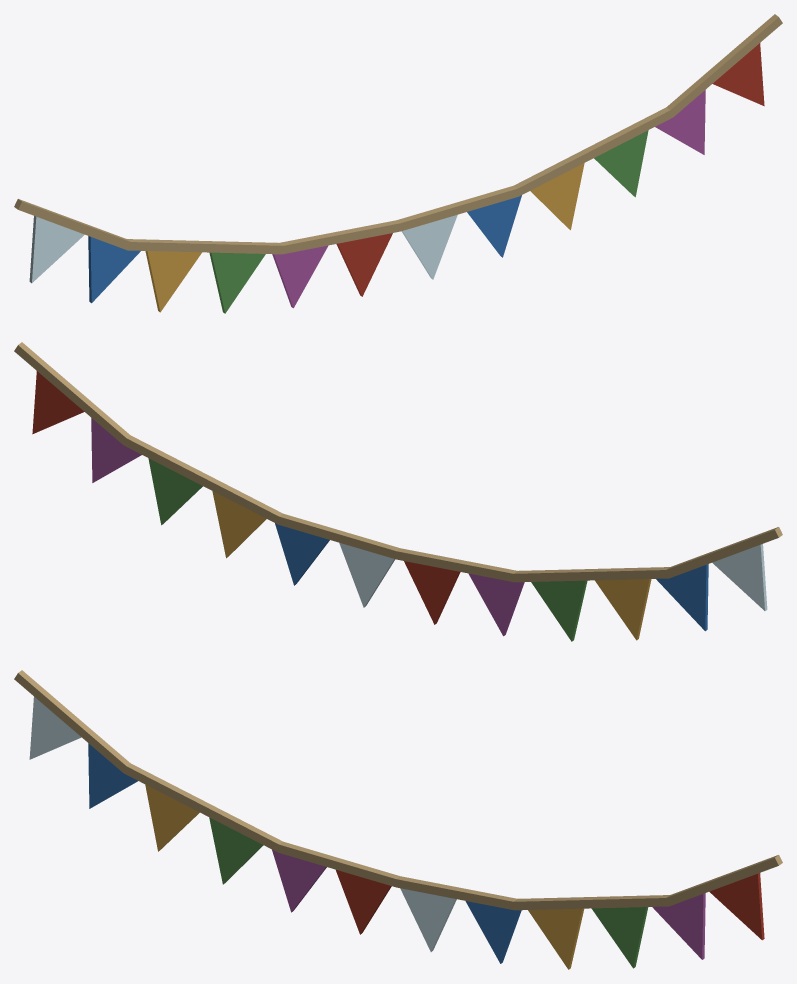
The model's file is Bunting.obj.
3 views of the same model, one above another, from view 1: azimuth 30°, elevation 25°; view 2: azimuth 150°, elevation 25°; view 3: azimuth 330°, elevation 25° (orthographic).
Visible parts, largest first — view 1: Bunting; view 2: Bunting; view 3: Bunting.
Boxes of the visible parts, box(x1,y1,x2,y2) form: Bunting: box(14, 14, 782, 313); Bunting: box(14, 342, 782, 641); Bunting: box(14, 670, 782, 969).
Bounding box in the file's own units: 2.81 × 0.63 × 0.0261.
1 material, 1 textured.
